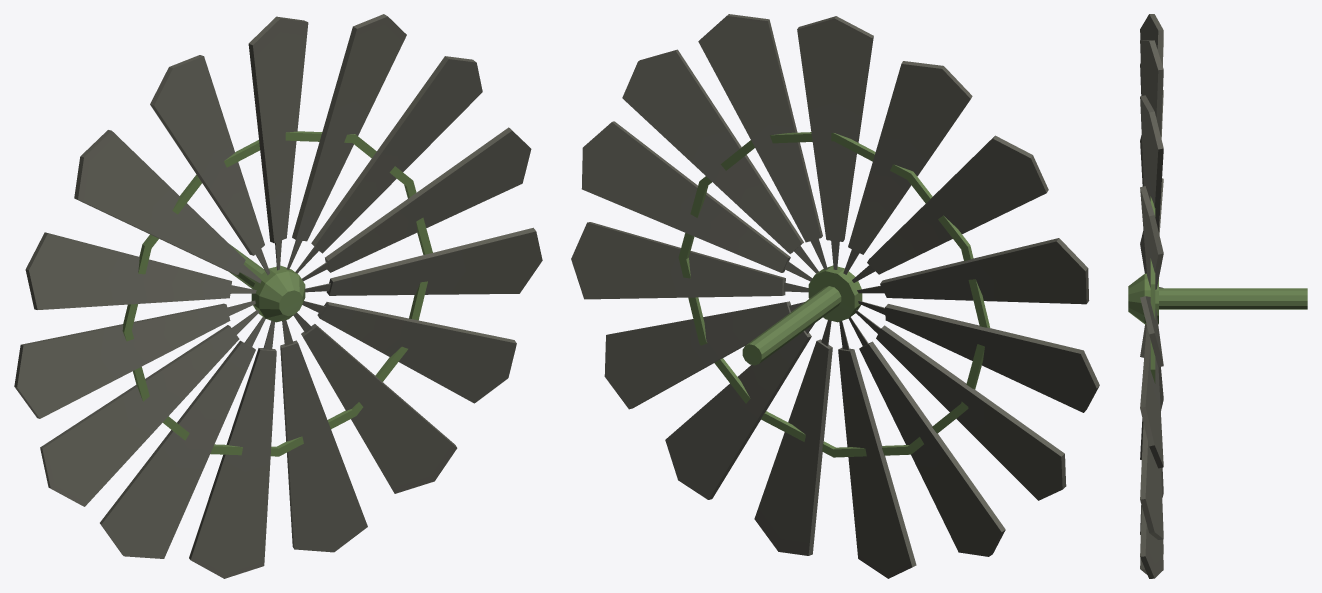
The model's file is Windmill_02.fbx.
The picture shows the model from 3 angles, left to right: view 1: azimuth 30°, elevation 25°; view 2: azimuth 150°, elevation 25°; view 3: azimuth 270°, elevation 25°; orthographic projection. The views are drawn at different scales.
Visible parts, largest first — view 1: Windmill_02; view 2: Windmill_02; view 3: Windmill_02.
Boxes of the visible parts, left/top/right/bottom form: Windmill_02: left=14, top=14, right=542, bottom=578; Windmill_02: left=571, top=14, right=1099, bottom=578; Windmill_02: left=1128, top=14, right=1307, bottom=578.
Size of the model in its own units: 1.91 by 1.9 by 0.6051.
